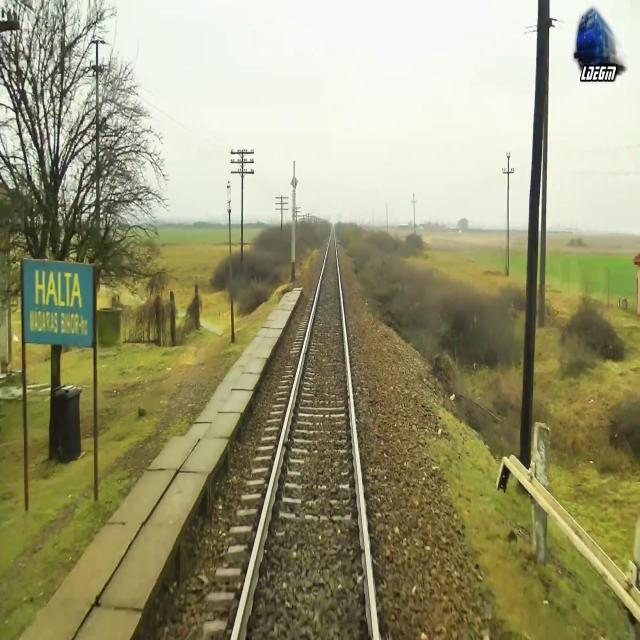rail-track: (236, 225, 373, 639)
